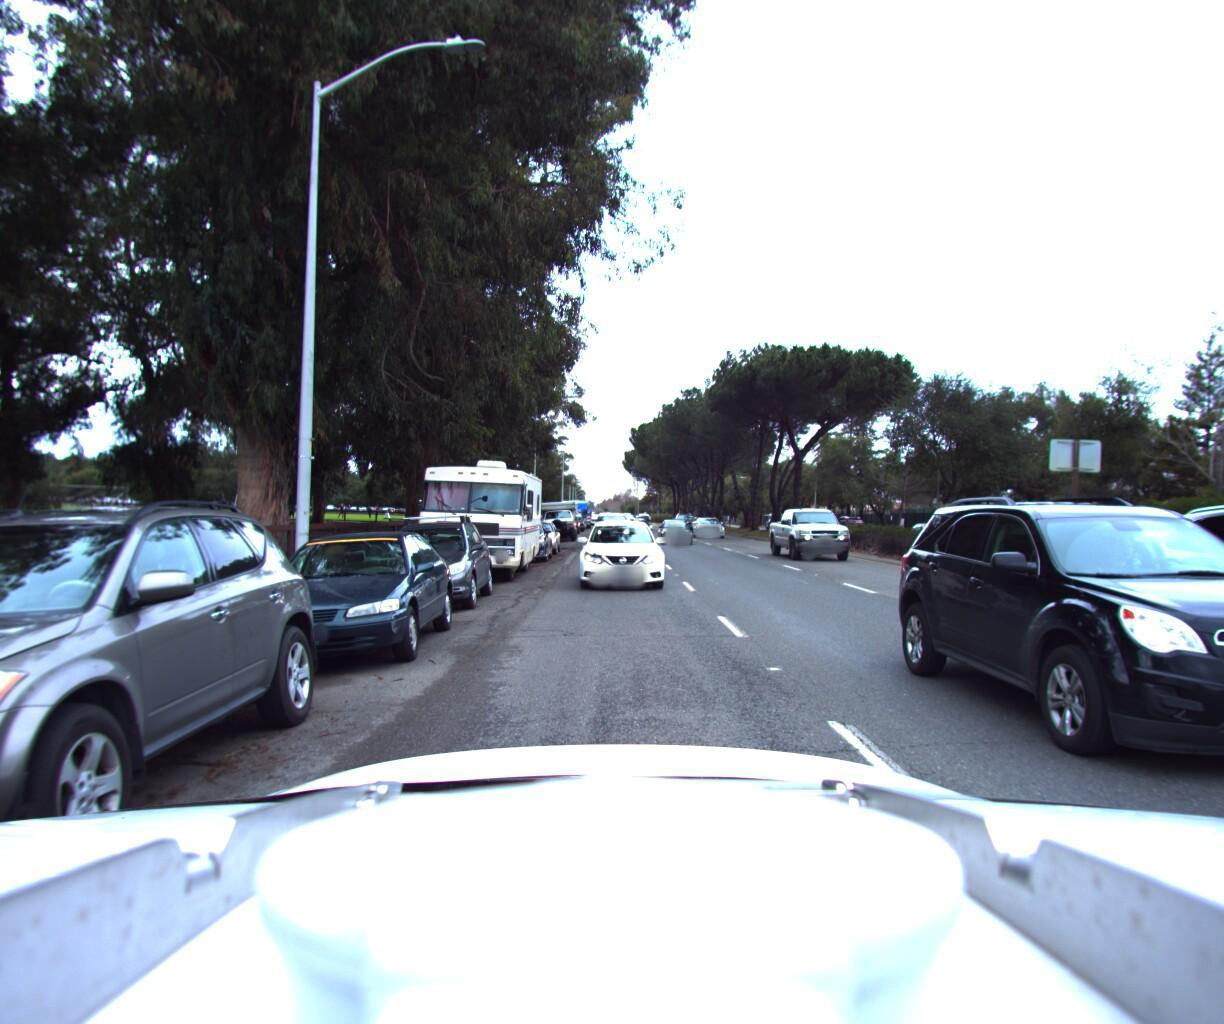car: (0, 465, 344, 1002), (946, 436, 1224, 911), (211, 531, 469, 688), (360, 521, 497, 625), (1202, 466, 1224, 848), (571, 524, 673, 605), (770, 511, 867, 573), (493, 529, 556, 574), (513, 529, 563, 566), (591, 523, 628, 559), (658, 525, 696, 552), (695, 522, 728, 547)
other_vehicle: (400, 449, 549, 588), (533, 502, 580, 551), (556, 508, 587, 541)
